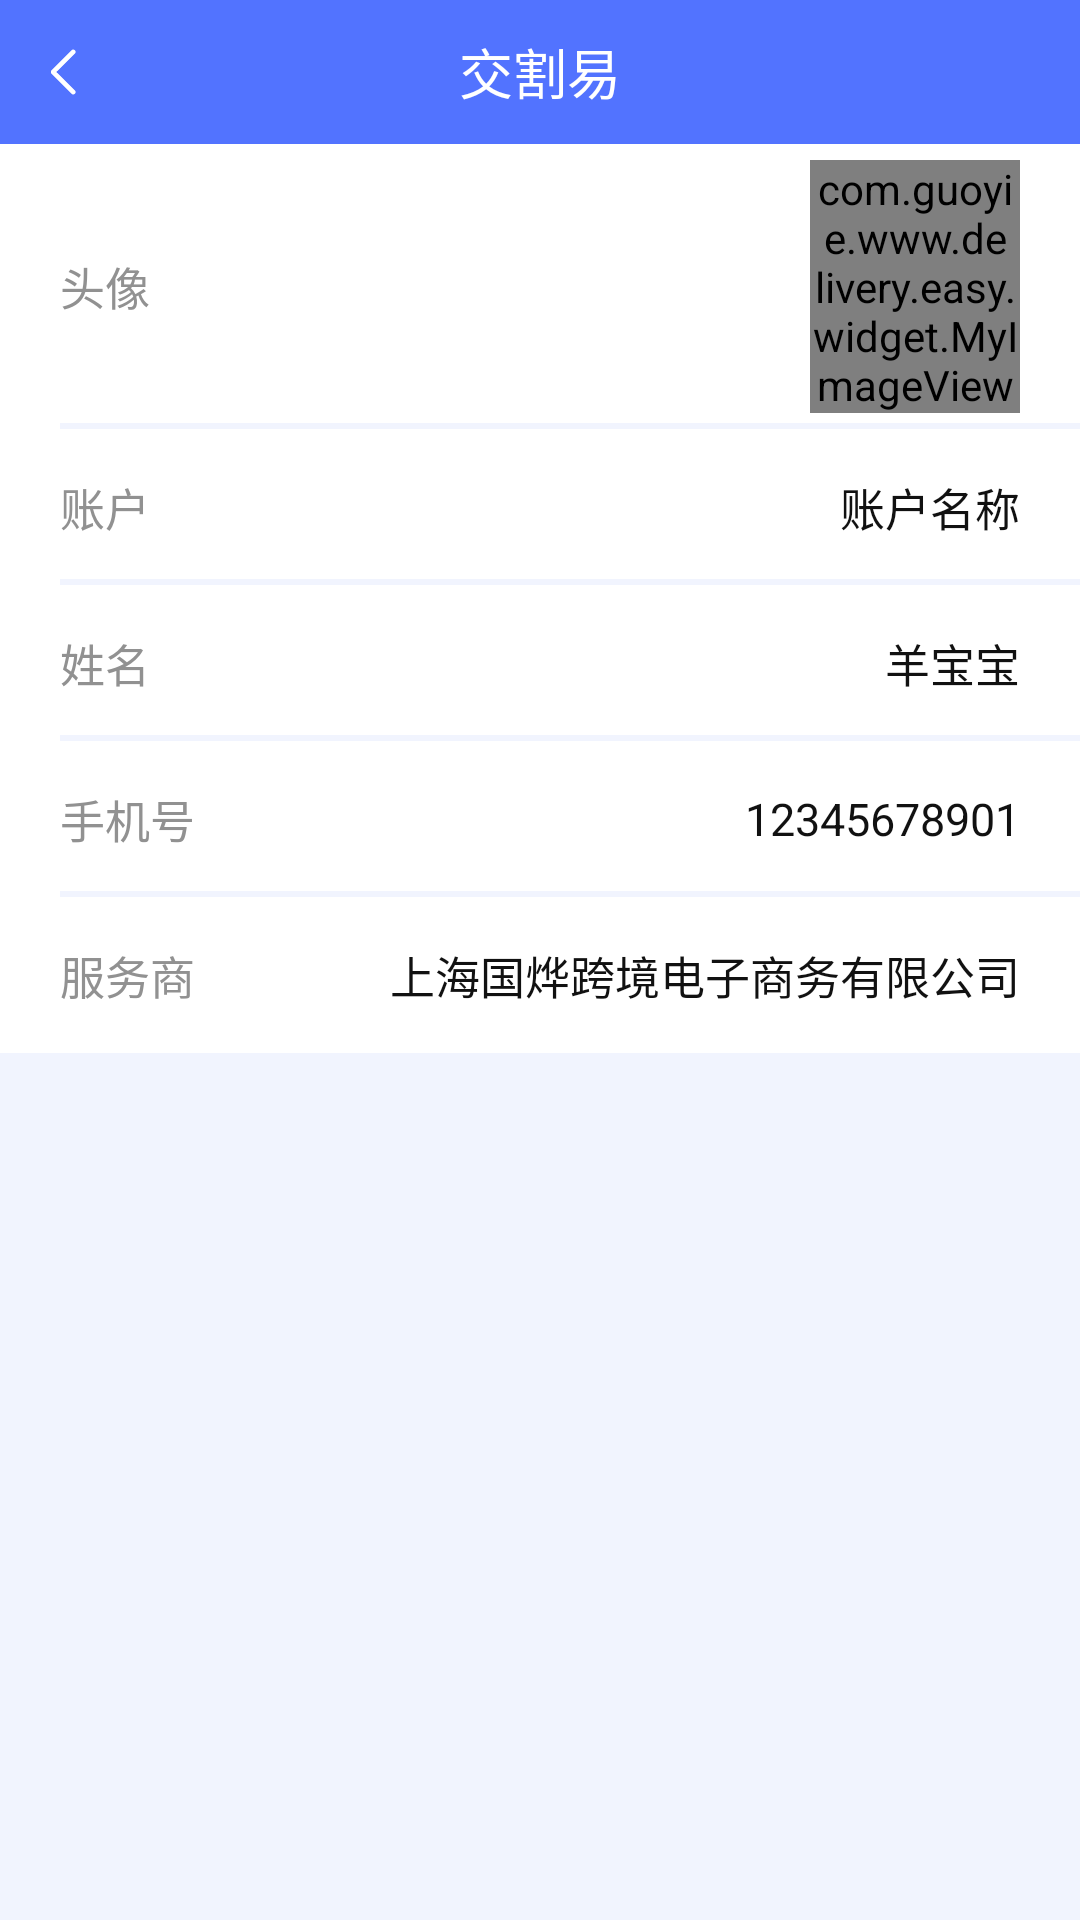

Where icons sit on this 1080x1920 app screen, as rect(x1, y1, x2, y2):
left arrow: rect(51, 49, 76, 95)
